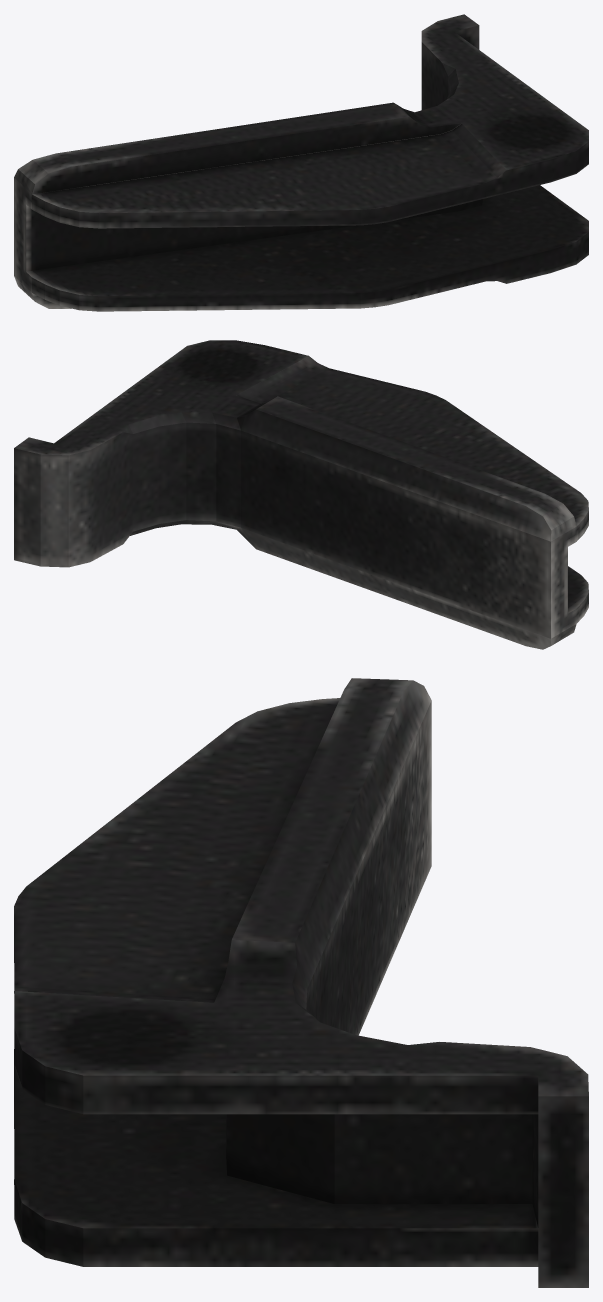
3 views of the same model, one above another, from view 1: azimuth 30°, elevation 25°; view 2: azimuth 150°, elevation 25°; view 3: azimuth 270°, elevation 25° (orthographic). The views are drawn at different scales.
Visible parts, largest first — view 1: TW_64637076203536ad5600c990_PZ_Import; view 2: TW_64637076203536ad5600c990_PZ_Import; view 3: TW_64637076203536ad5600c990_PZ_Import.
Boxes of the visible parts, x1,y1,x2,y2 form: TW_64637076203536ad5600c990_PZ_Import: (14,14,588,311); TW_64637076203536ad5600c990_PZ_Import: (14,340,588,649); TW_64637076203536ad5600c990_PZ_Import: (14,678,588,1287).
Bounding box in the file's own units: 0.0215 × 0.0127 × 0.00583.
1 material, 1 textured.
